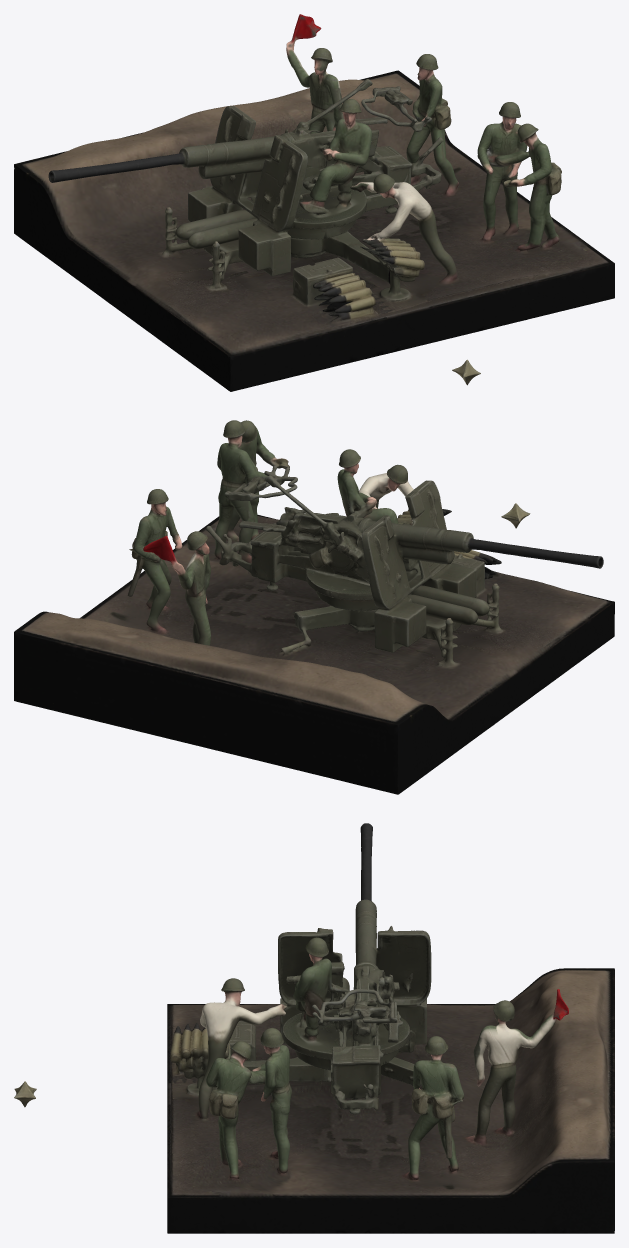
Rendered from ban_pha_phao_dai_bay_b52.glb.
3 renders of one model, top to bottom at view 1: azimuth 30°, elevation 25°; view 2: azimuth 150°, elevation 25°; view 3: azimuth 270°, elevation 25°, orthographic. The views are drawn at different scales.
Size of the model in its own units: 1.76 by 0.6931 by 1.9.
Materials: 1 (1 with a texture image).
